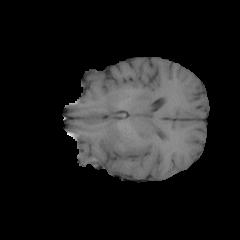glioma: (94, 113, 151, 171)
